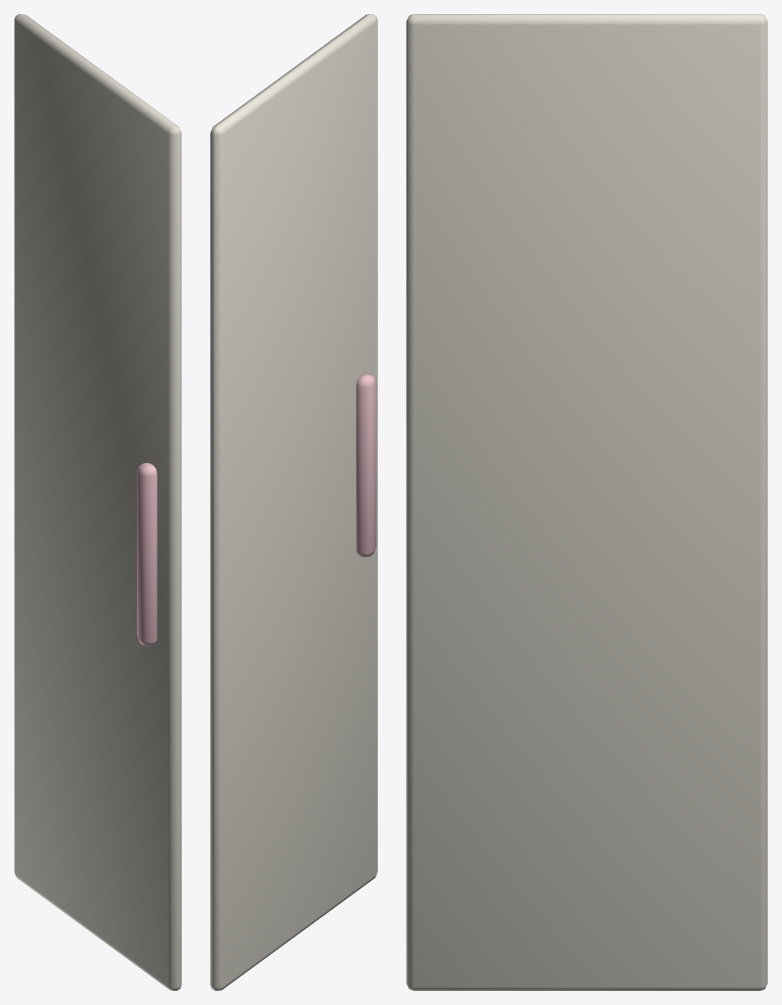
File: closet_door_l.fbx
The picture shows the model from 3 angles, left to right: view 1: azimuth 30°, elevation 25°; view 2: azimuth 150°, elevation 25°; view 3: azimuth 270°, elevation 25°; orthographic projection. The views are drawn at different scales.
Parts seen in each view (by area): view 1: Cube.044; view 2: Cube.044; view 3: Cube.044.
Part boxes in pixels (left/top/right/bottom): Cube.044: left=14, top=14, right=181, bottom=990; Cube.044: left=210, top=14, right=377, bottom=990; Cube.044: left=406, top=14, right=767, bottom=990.
Bounding box in the file's own units: 64.14 × 2073 × 695.
